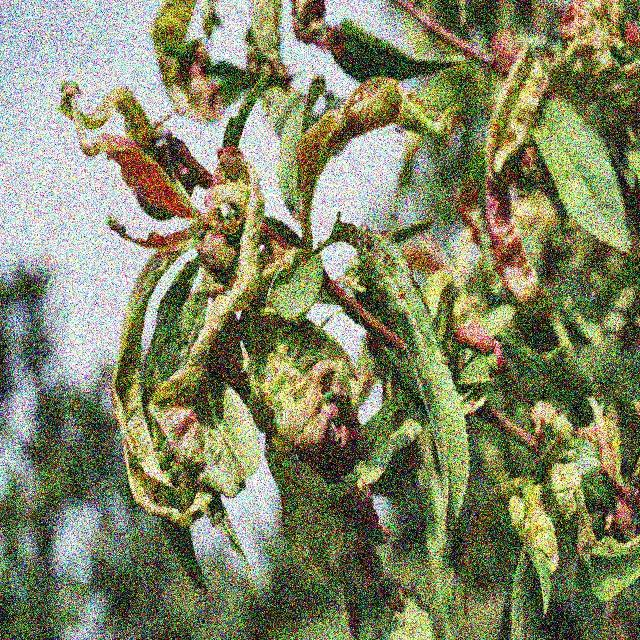leaf_curl: (67, 6, 281, 561), (422, 89, 570, 374), (241, 289, 388, 574)
